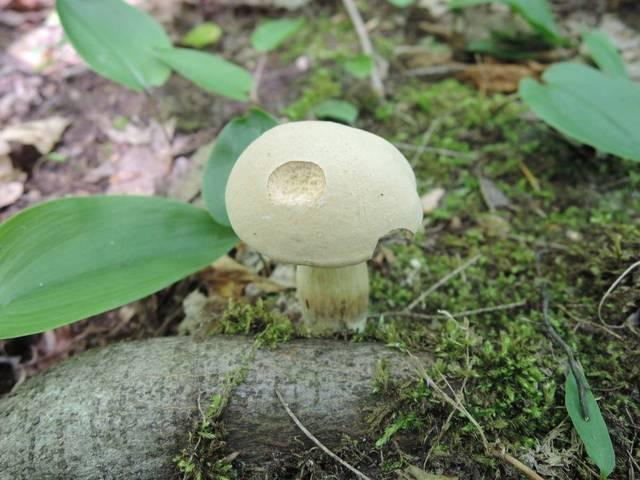Edible Mushroom: (223, 118, 424, 337)
